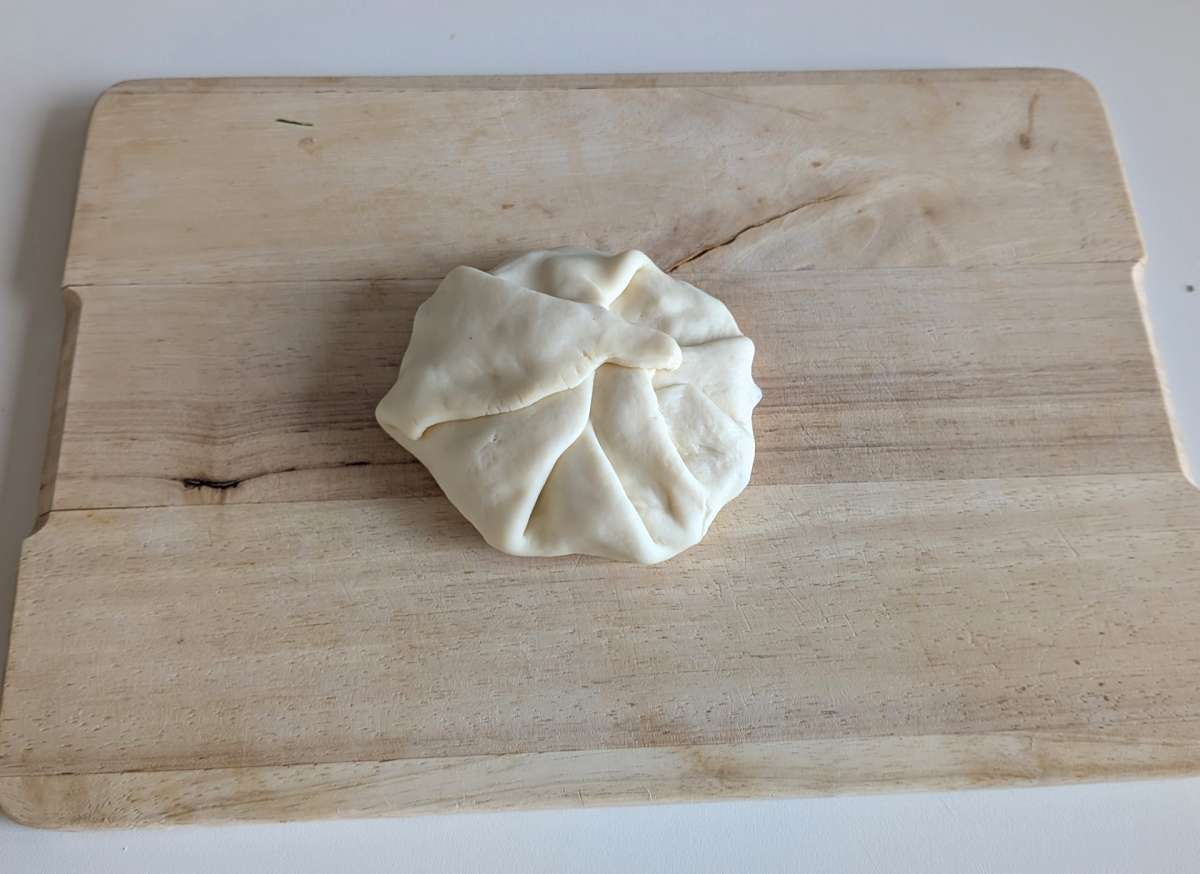momo: (374, 248, 786, 572)
